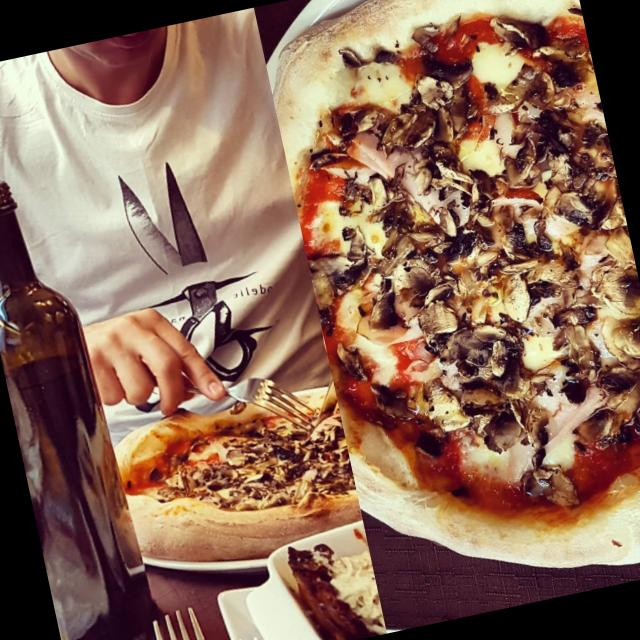mushrooms: (168, 411, 356, 525), (416, 239, 592, 343), (512, 98, 624, 240), (364, 212, 541, 288), (482, 43, 584, 122), (469, 370, 564, 449), (436, 314, 528, 394), (299, 99, 387, 180), (426, 154, 498, 236), (544, 309, 608, 400), (585, 257, 640, 359), (400, 49, 484, 115), (512, 457, 584, 521), (334, 166, 396, 231), (383, 99, 451, 152), (322, 219, 374, 288), (365, 275, 426, 331), (571, 405, 640, 452), (491, 8, 549, 53), (596, 363, 640, 413), (346, 341, 368, 378)
pizza: (275, 0, 640, 567), (118, 389, 360, 565)
